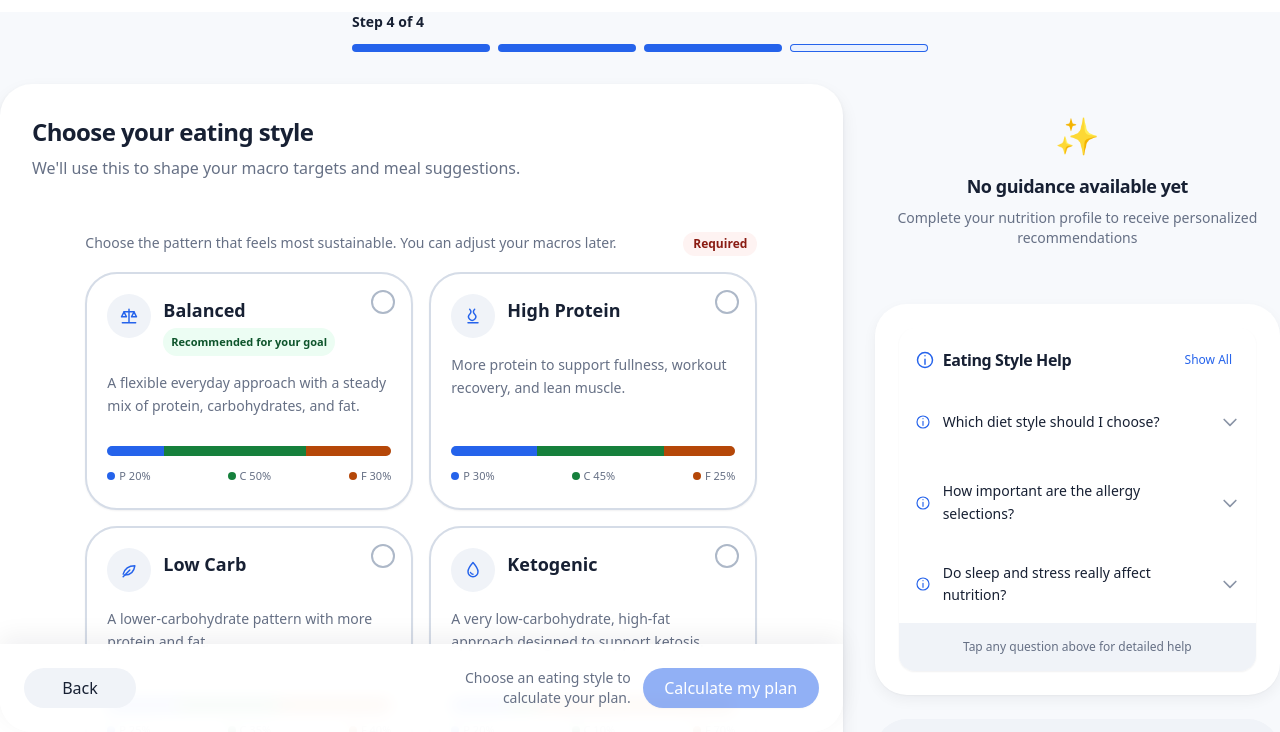
Scenario: Wizard component › presents the final step as an accessible required radio-card group
Expected: the text "Step 4 of 4" is shown, 352,12 -> 424,31
Expected: the text "We'll use this to shape your macro targets and meal suggestions." is shown, 32,156 -> 520,180
Click the radio button labelled "High Protein" at [593, 391], box 429,272 -> 757,510
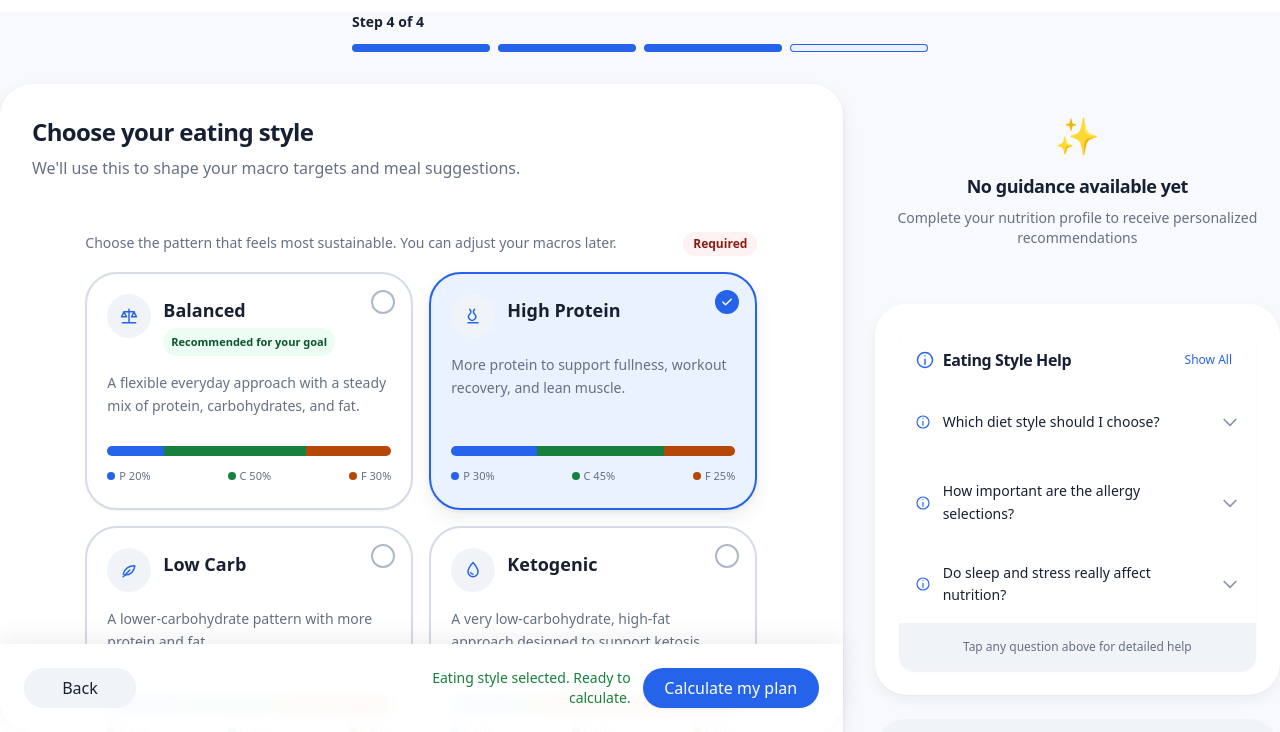
Result: the radio button labelled "High Protein" is checked at 429,272 -> 757,510
Result: the button "Calculate my plan" is enabled at 643,668 -> 819,708
Result: the text "Eating style selected. Ready to calculate." is shown at 407,668 -> 631,708
